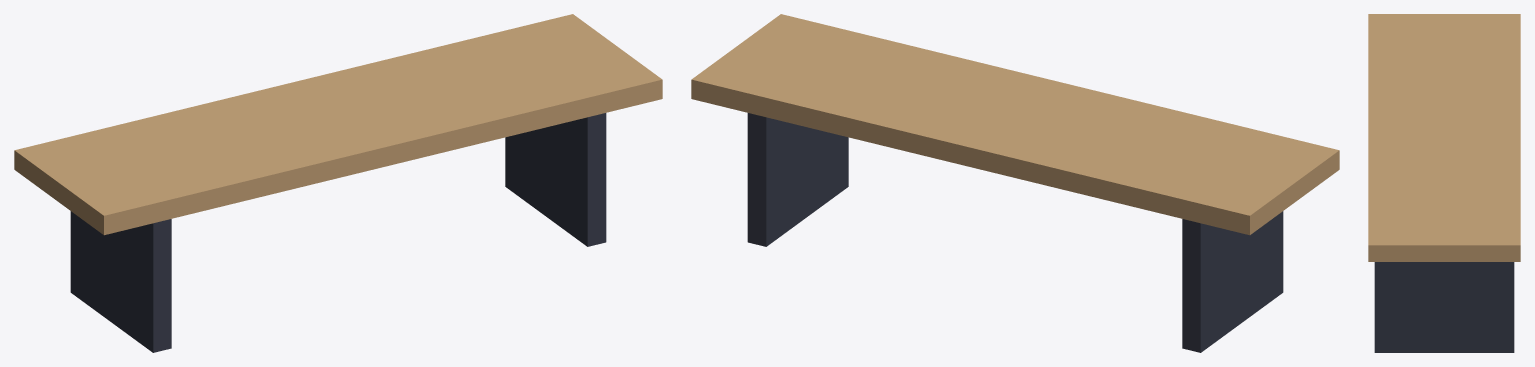
File: mal-029.glb
3 renders of one model, left to right at view 1: azimuth 30°, elevation 25°; view 2: azimuth 150°, elevation 25°; view 3: azimuth 270°, elevation 25°, orthographic. The views are drawn at different scales.
Visible parts, largest first — view 1: seat, leg_1, leg_2; view 2: seat, leg_1, leg_2; view 3: seat, leg_2.
Part boxes in pixels (x1=…): seat: x1=14, y1=14, x2=662, y2=235; leg_1: x1=70, y1=211, x2=171, y2=352; leg_2: x1=505, y1=113, x2=606, y2=246; seat: x1=691, y1=14, x2=1339, y2=235; leg_1: x1=1182, y1=211, x2=1283, y2=352; leg_2: x1=747, y1=113, x2=848, y2=246; seat: x1=1368, y1=14, x2=1520, y2=261; leg_2: x1=1374, y1=262, x2=1514, y2=352.
Bounding box in the file's own units: 1.8 × 0.47 × 0.5.
